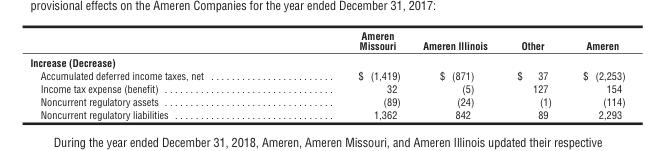table: (29, 28, 624, 120)
table column: (29, 28, 280, 120), (280, 28, 411, 120), (411, 28, 501, 120), (501, 28, 566, 120), (566, 28, 624, 120)
table column header: (29, 28, 624, 53)
table projected row header: (29, 53, 624, 68)
table row: (29, 28, 624, 53), (29, 53, 624, 68), (29, 68, 624, 81), (29, 81, 624, 94), (29, 94, 624, 107), (29, 107, 624, 120)
